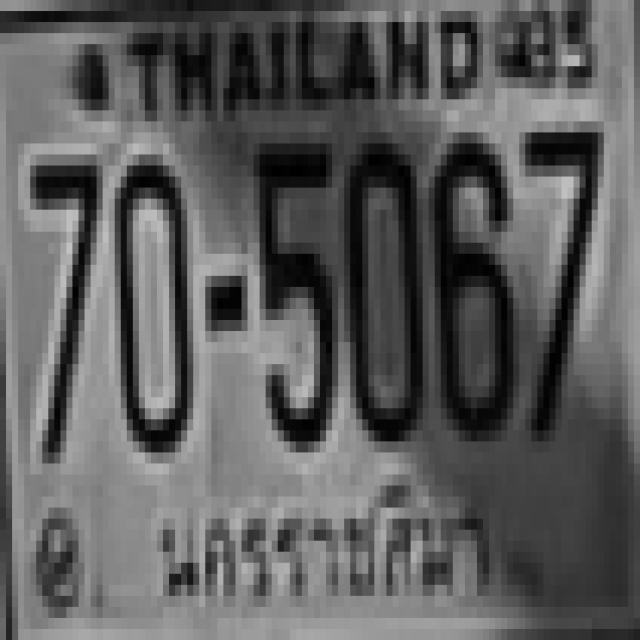0: (341, 132, 420, 442), (112, 149, 190, 447)
5: (254, 132, 332, 442)
6: (432, 122, 510, 430)
7: (519, 122, 598, 430), (30, 154, 97, 452)
NakhonRatchasima: (159, 477, 500, 627)
